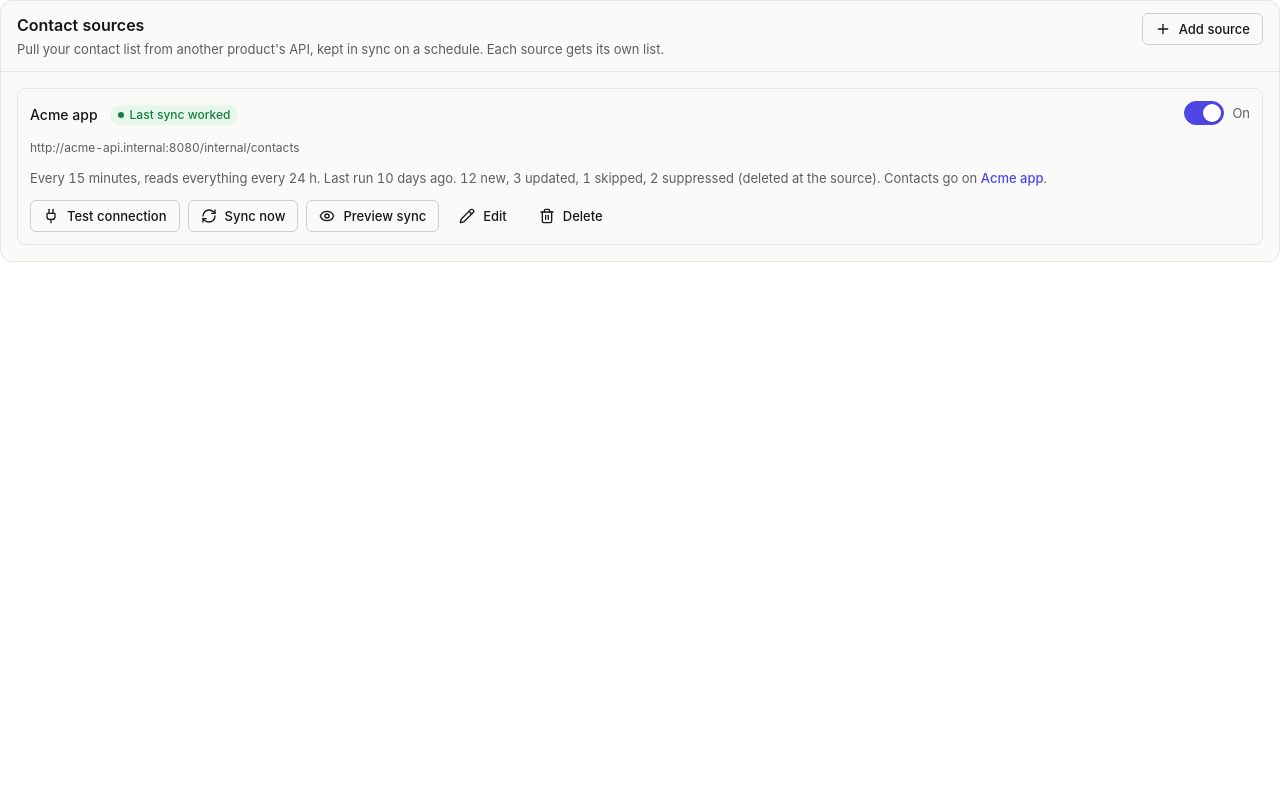
preview sync › an unreachable source shows the error as an alert instead of a table
Click the button with aria-label "Preview the next sync of Acme app".
click(373, 216)  # box [306, 200, 439, 232]
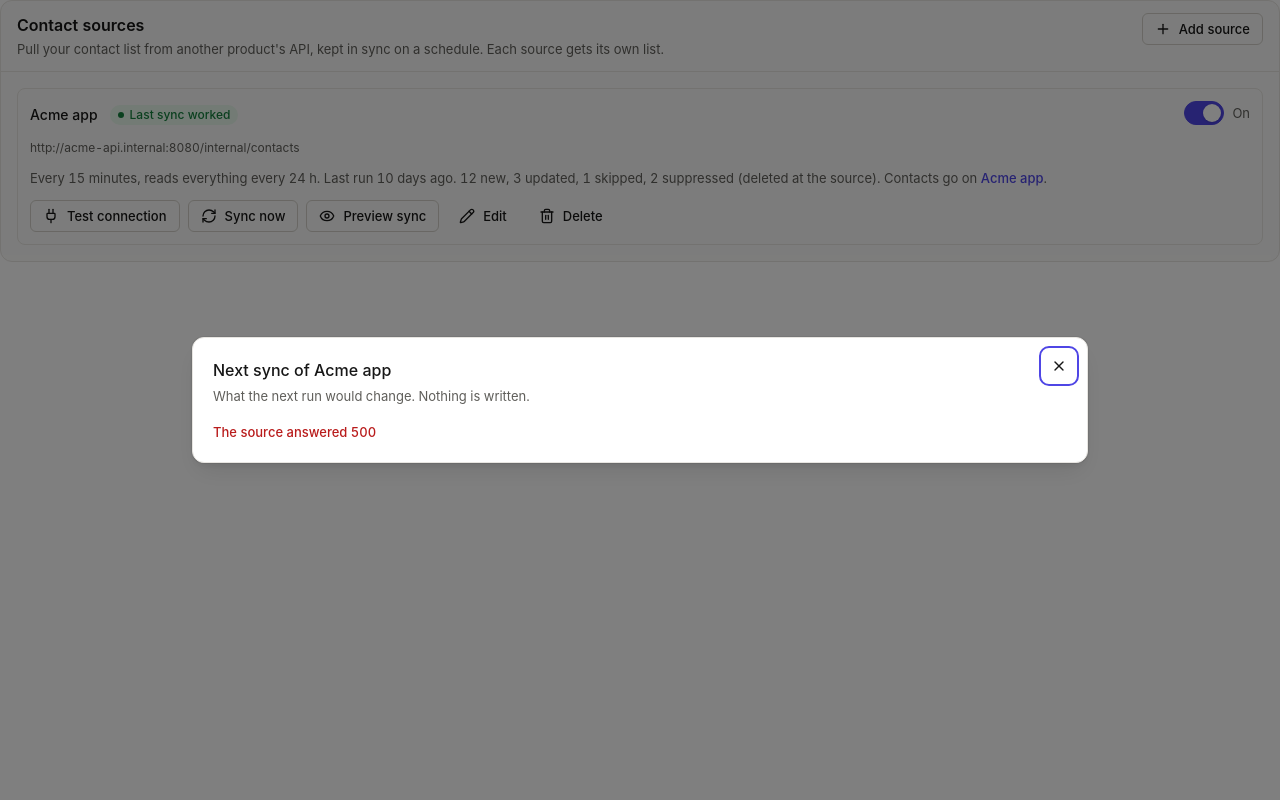
Result: the message reads "The source answered 500" at [213, 424, 376, 440]
